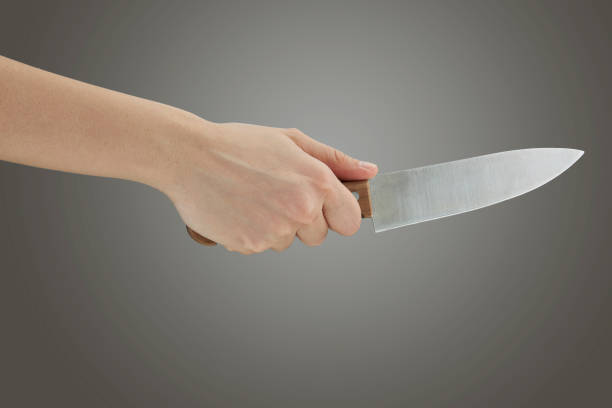knife: (182, 145, 588, 249)
